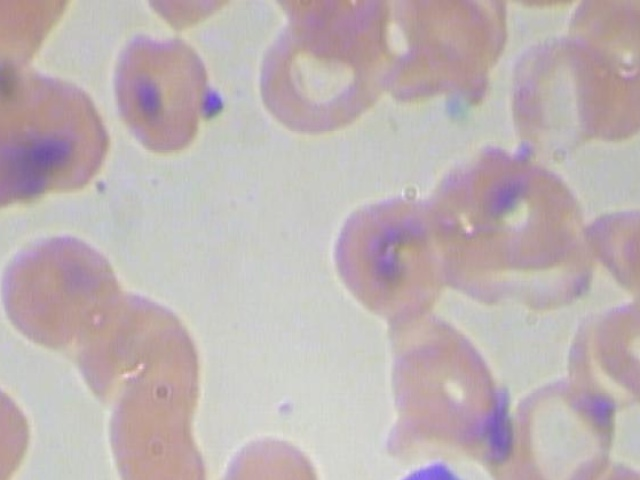Platelets: (195, 85, 237, 125)
RBC: (426, 147, 592, 300), (318, 191, 449, 317), (256, 17, 387, 143), (380, 331, 511, 457), (100, 29, 232, 154), (55, 281, 186, 406), (492, 34, 623, 159), (0, 228, 125, 353), (0, 68, 114, 201), (494, 369, 626, 480), (0, 73, 63, 217), (200, 429, 331, 480), (0, 364, 46, 480), (484, 460, 581, 480)
WBC: (352, 455, 487, 480)
